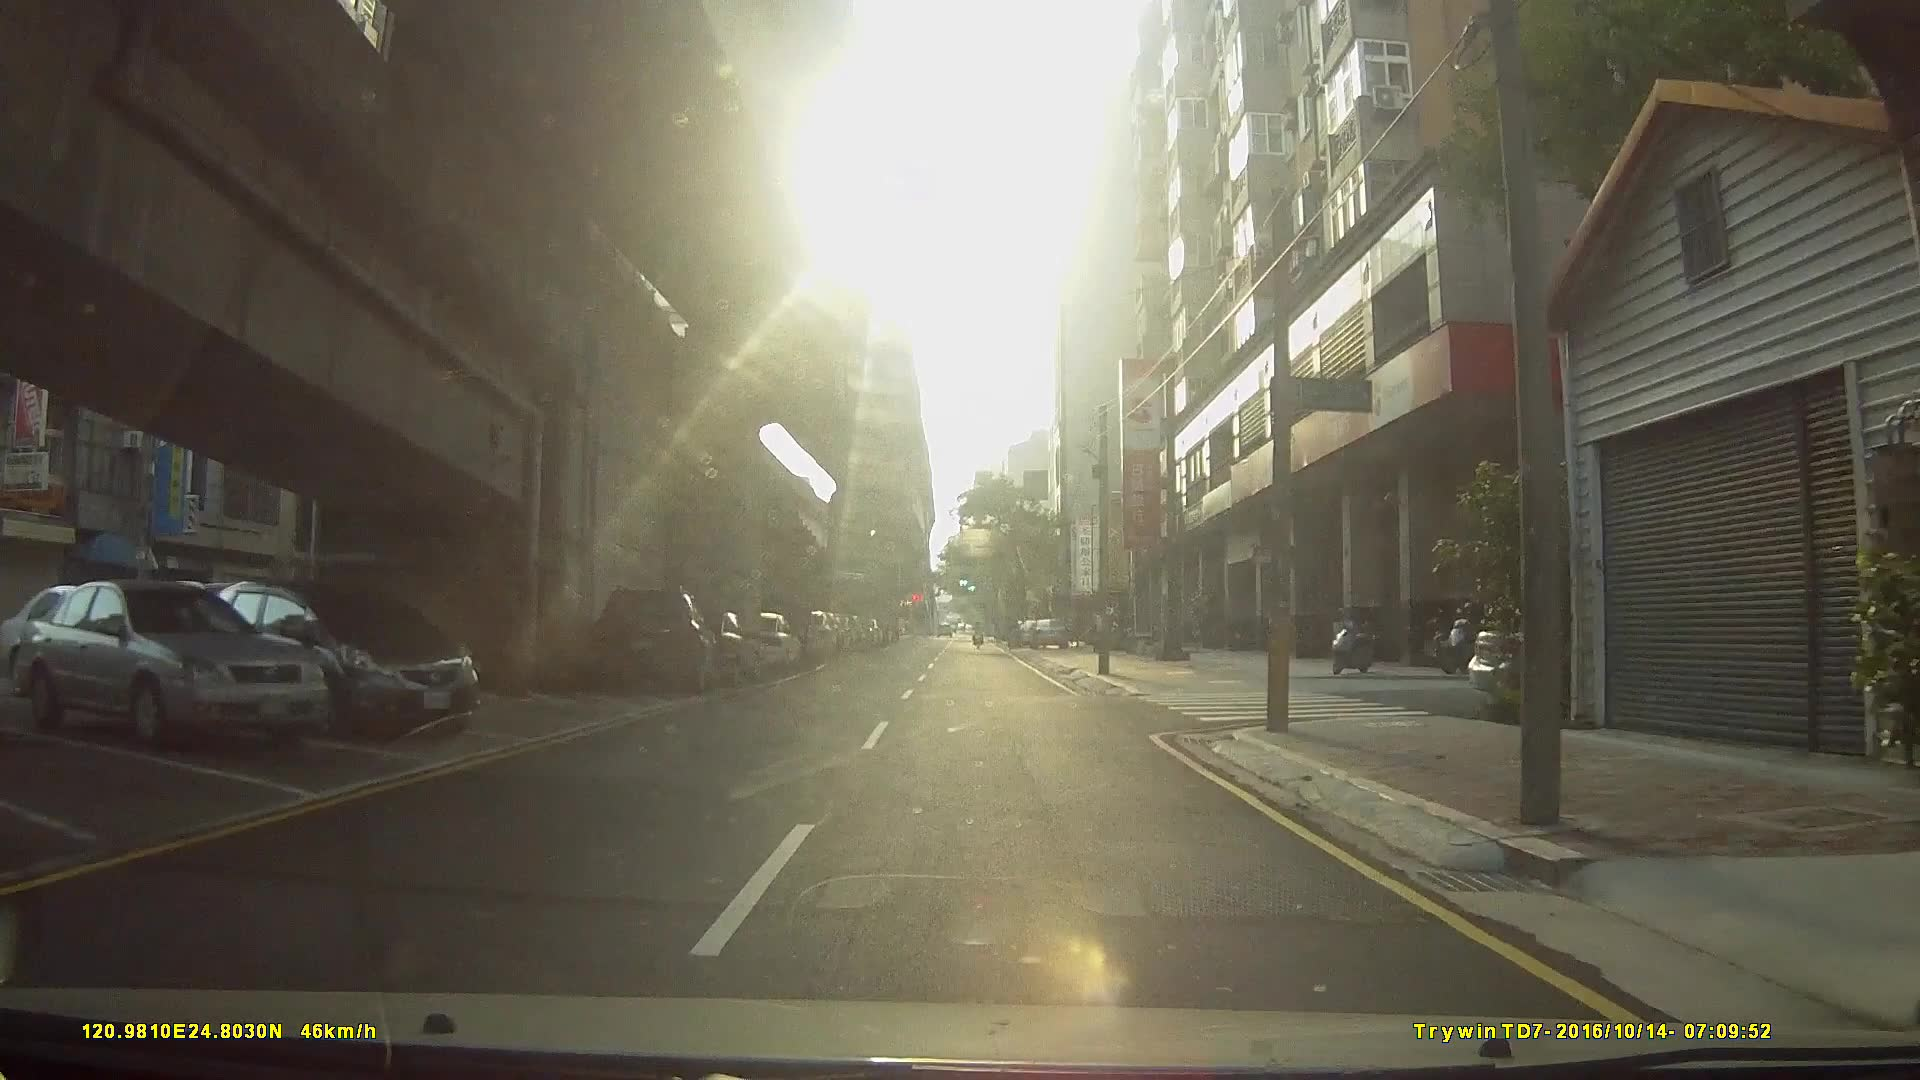vehicle: (18, 582, 326, 752), (211, 578, 483, 740), (585, 588, 723, 696), (1029, 618, 1067, 653)
